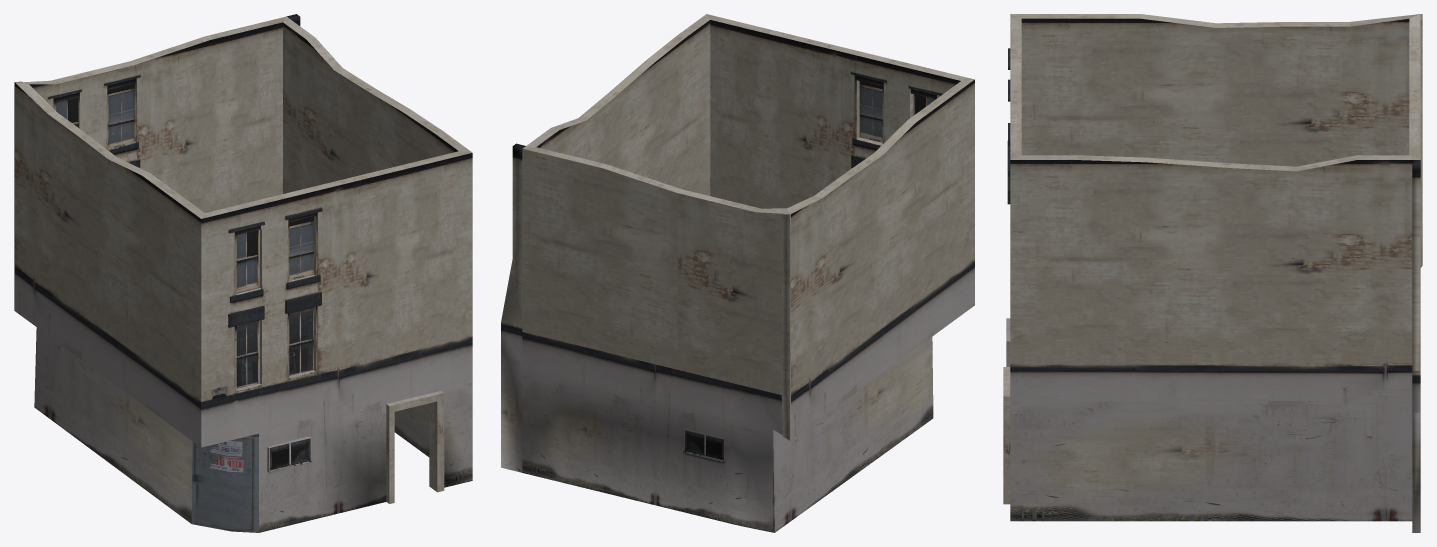
File: building6.obj
3 renders of one model, left to right at view 1: azimuth 30°, elevation 25°; view 2: azimuth 150°, elevation 25°; view 3: azimuth 270°, elevation 25°, orthographic. The views are drawn at different scales.
Parts seen in each view (by area): view 1: material33; view 2: material33; view 3: material33.
Boxes of the visible parts, x1,y1,x2,y2 form: material33: (14,14,472,532); material33: (501,14,974,532); material33: (1003,14,1422,532).
Size of the model in its own units: 303 by 324 by 341.
Materials: 1 (1 with a texture image).
